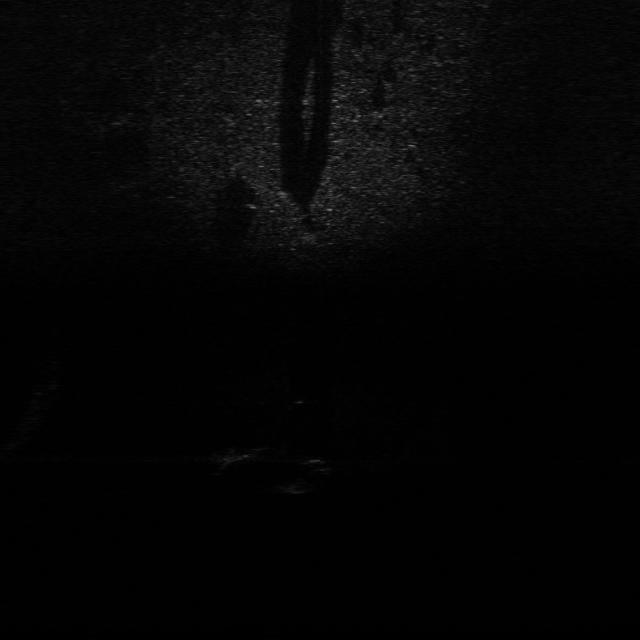square cage: (206, 443, 262, 469)
tyre: (270, 456, 336, 496)
